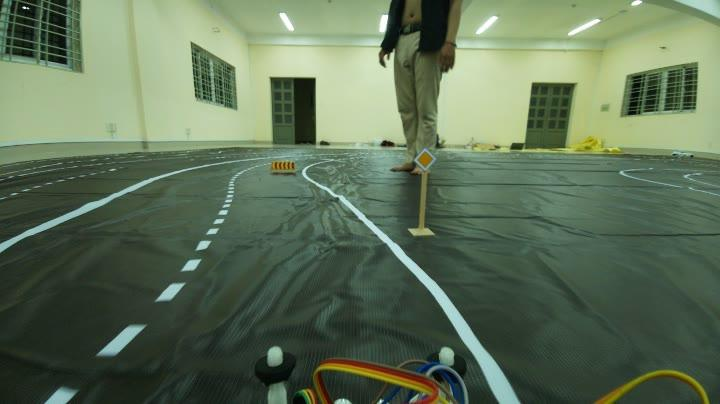priority: (412, 144, 441, 176)
